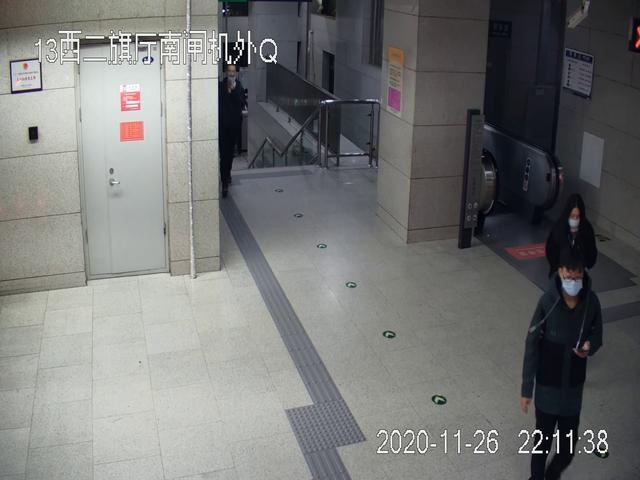person: (522, 251, 601, 480), (546, 194, 597, 371), (217, 62, 246, 198)
